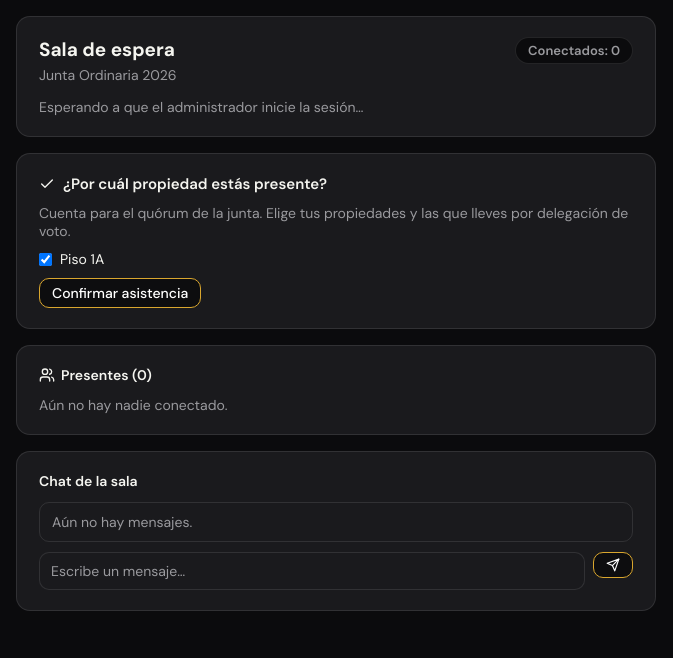
it: WaitingRoomComponent › confirmación de asistencia (quórum) › si el backend rechaza la confirmación, muestra el error y no marca confirmado
Click the button "Confirmar asistencia".
click(120, 293)  # box [39,278,201,308]
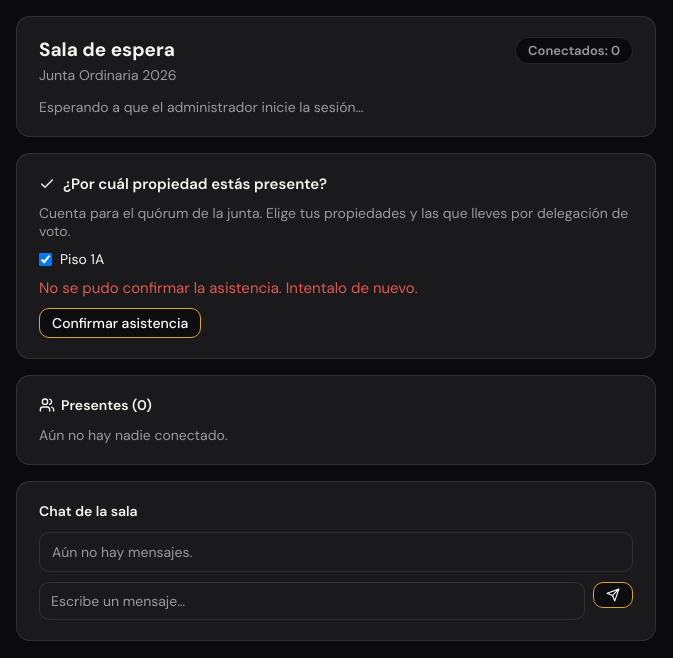
Check: the text "No se pudo confirmar la asistencia" is shown, box [39,278,418,298]
